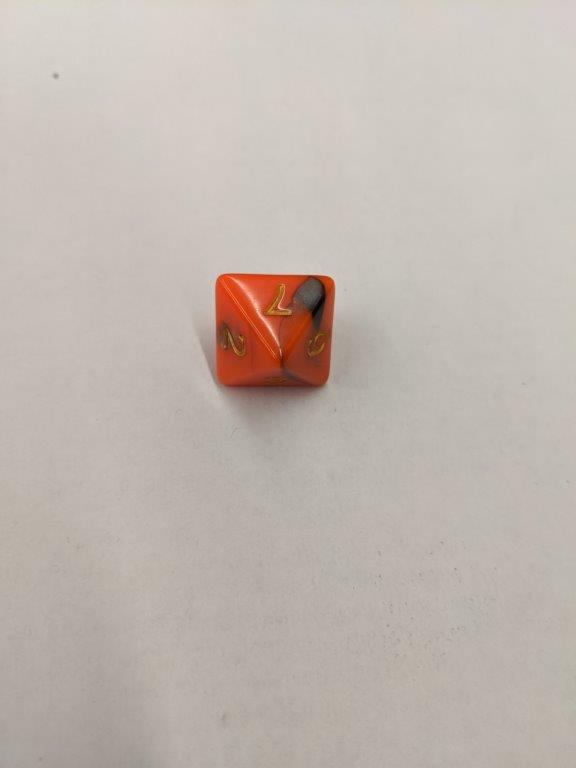d8-7: (212, 271, 332, 391)
